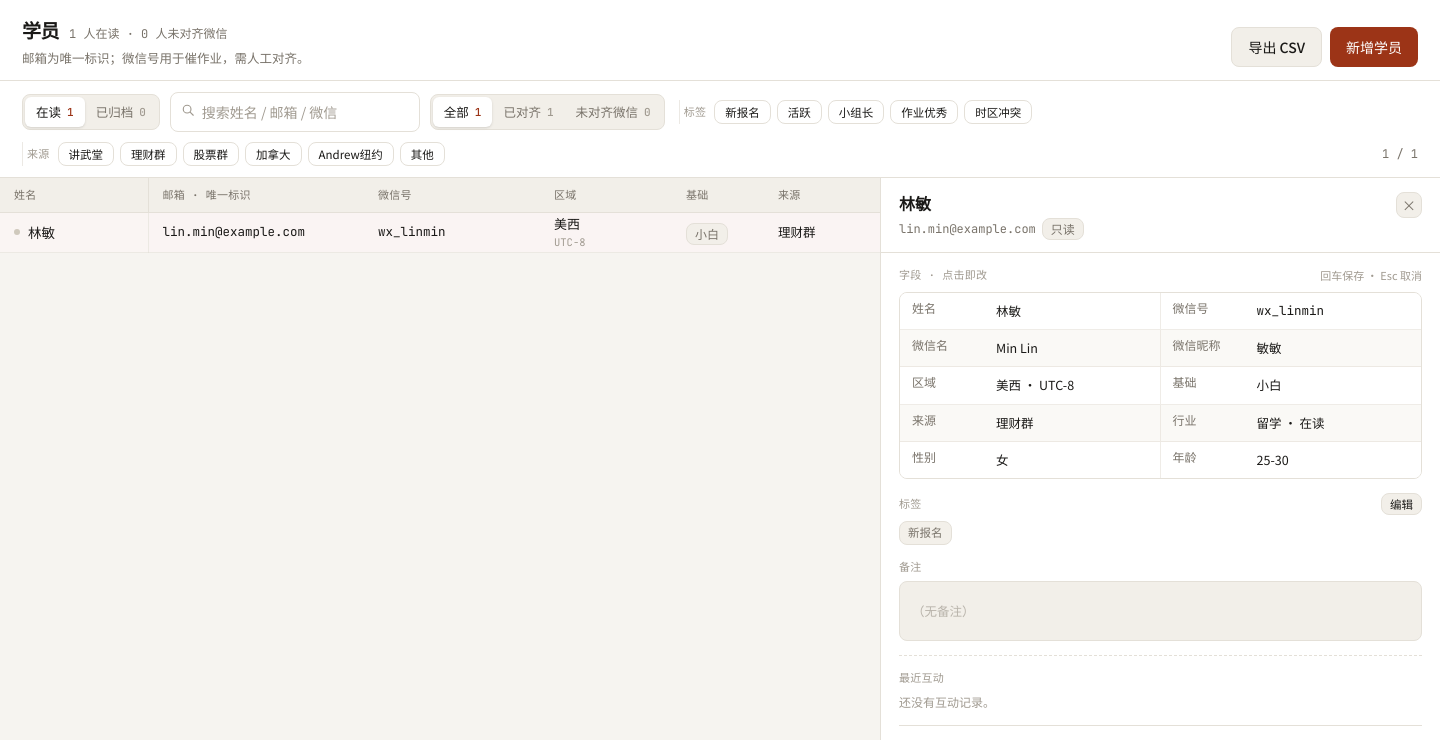
editing the name › keeps the typed name when the save fails
Click the button "林敏": [1072, 311] box [996, 299, 1148, 323]
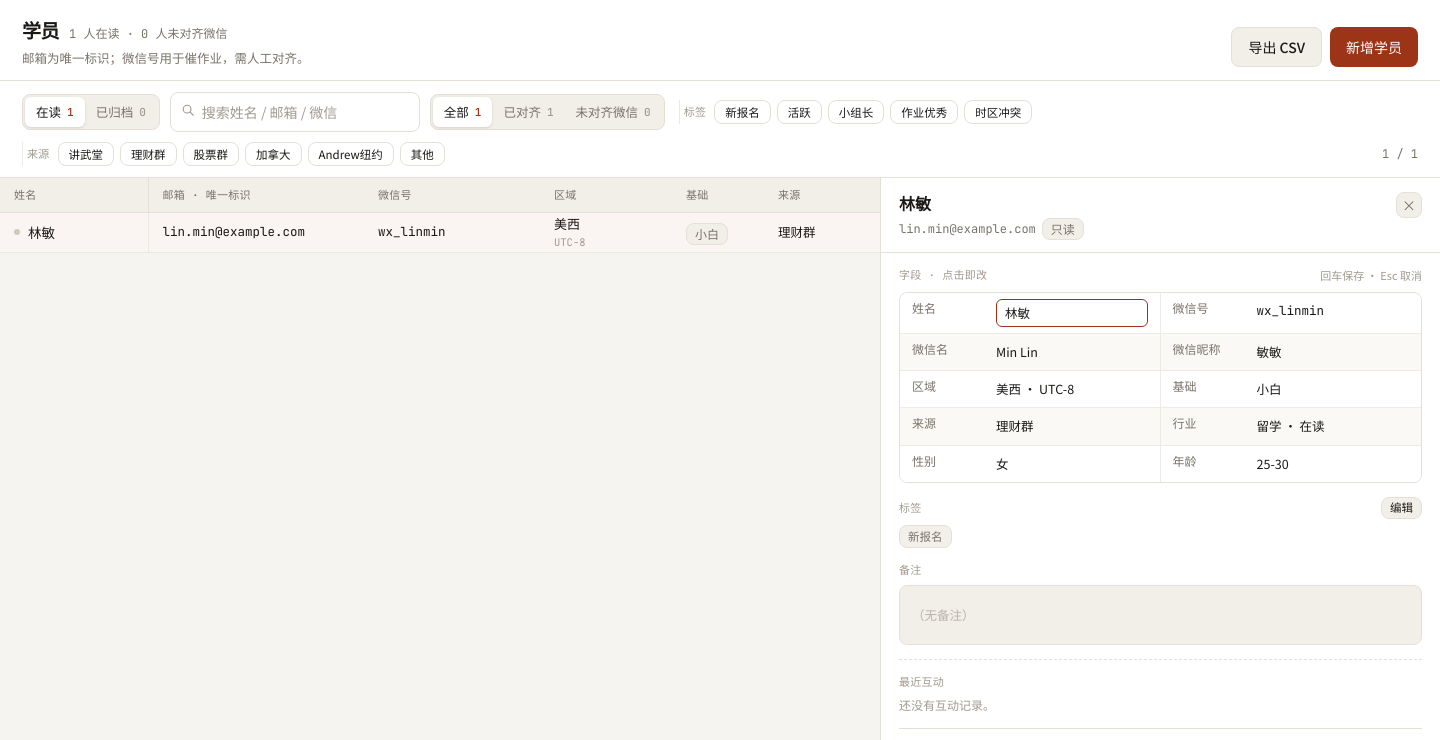
Replace the text in the 2nd field with "改了一半": [1072, 313] box [996, 299, 1148, 327]
Then press Enter
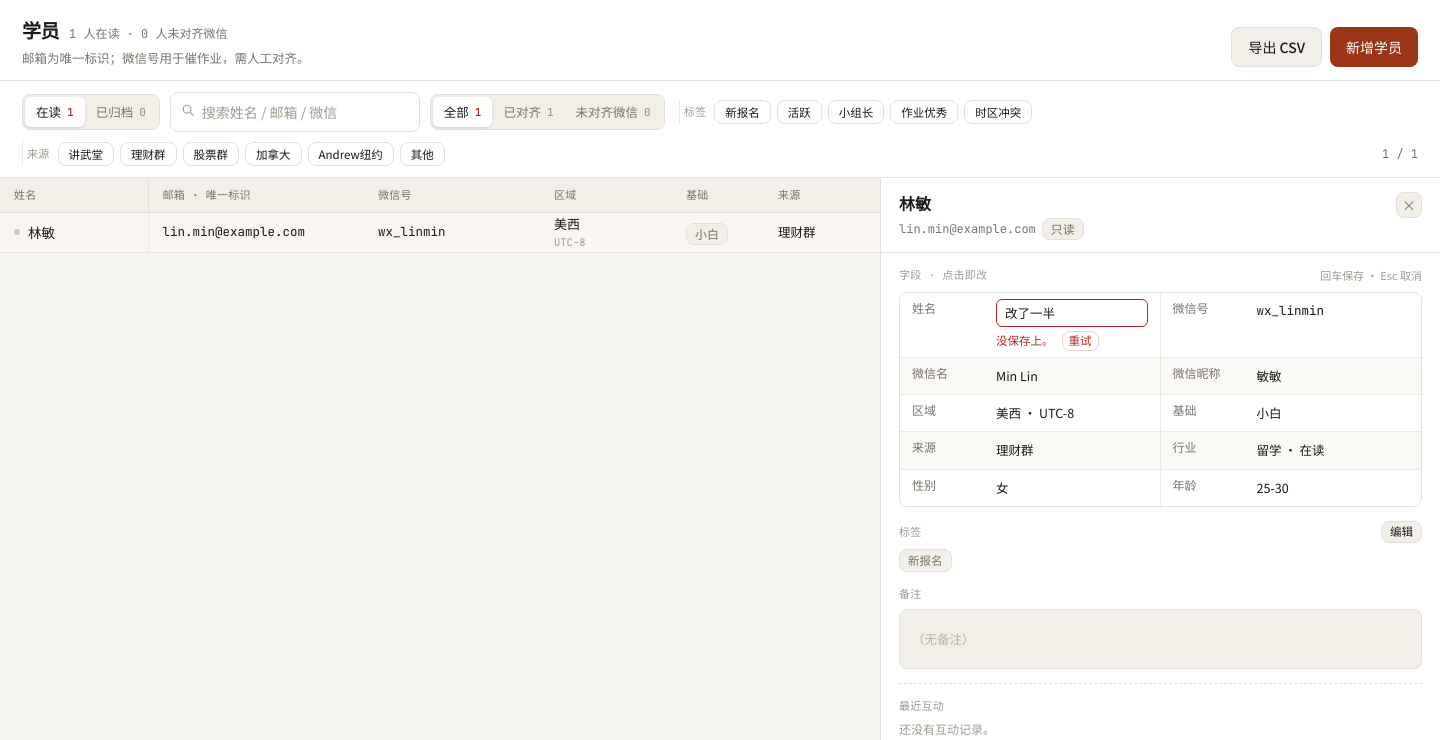
Expected: the 2nd field holds "改了一半", [996, 299, 1148, 327]
